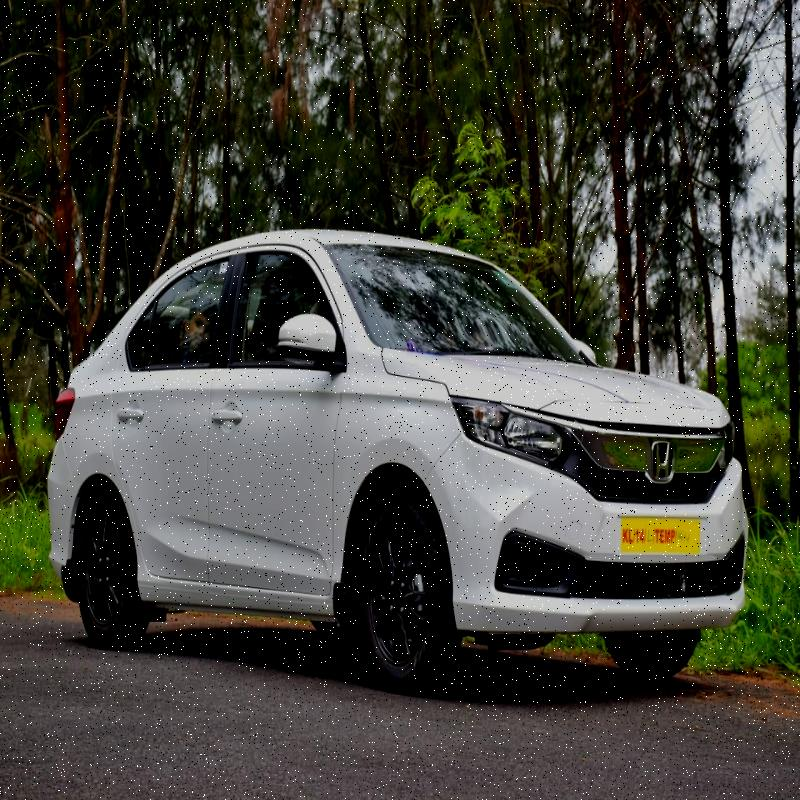car: (78, 203, 741, 688)
